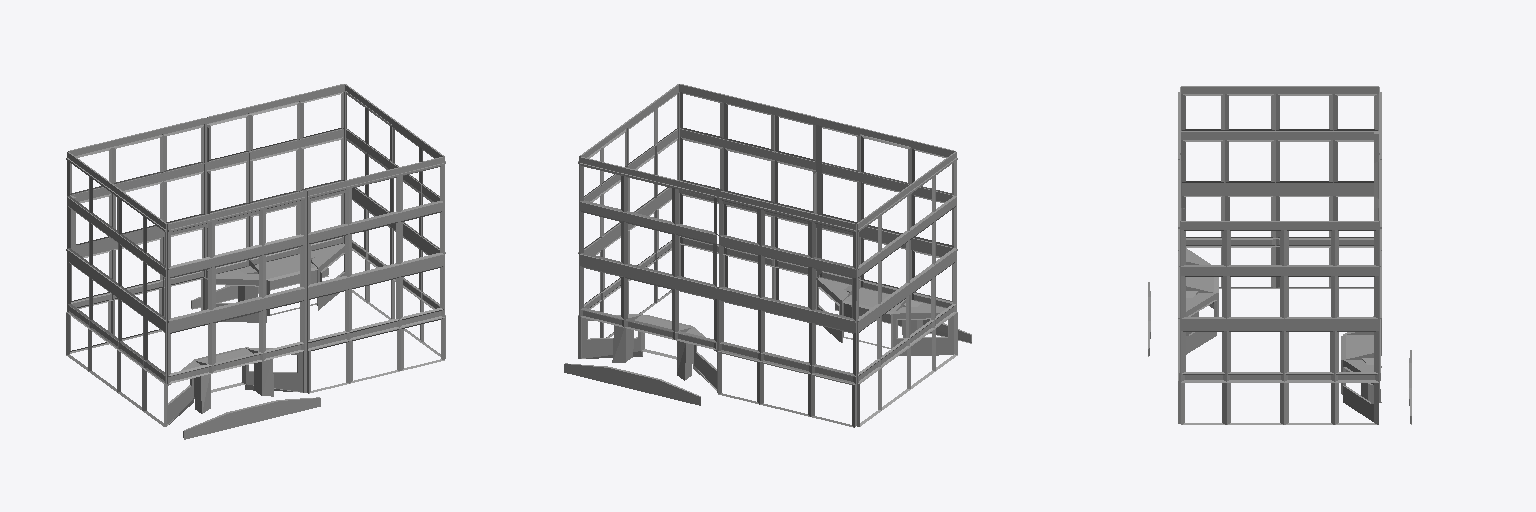
File: brick.obj
3 views of the same model, side by side, from view 1: azimuth 30°, elevation 25°; view 2: azimuth 150°, elevation 25°; view 3: azimuth 270°, elevation 25° (orthographic).
Parts seen in each view (by area): view 1: building2_zdi_Cube.114; view 2: building2_zdi_Cube.114; view 3: building2_zdi_Cube.114.
Boxes of the visible parts, box(x1,y1,x2,y2) form: building2_zdi_Cube.114: box(66, 84, 445, 439); building2_zdi_Cube.114: box(564, 84, 971, 427); building2_zdi_Cube.114: box(1148, 86, 1411, 424).
Bounding box in the file's own units: 16.03 × 11.07 × 13.02.